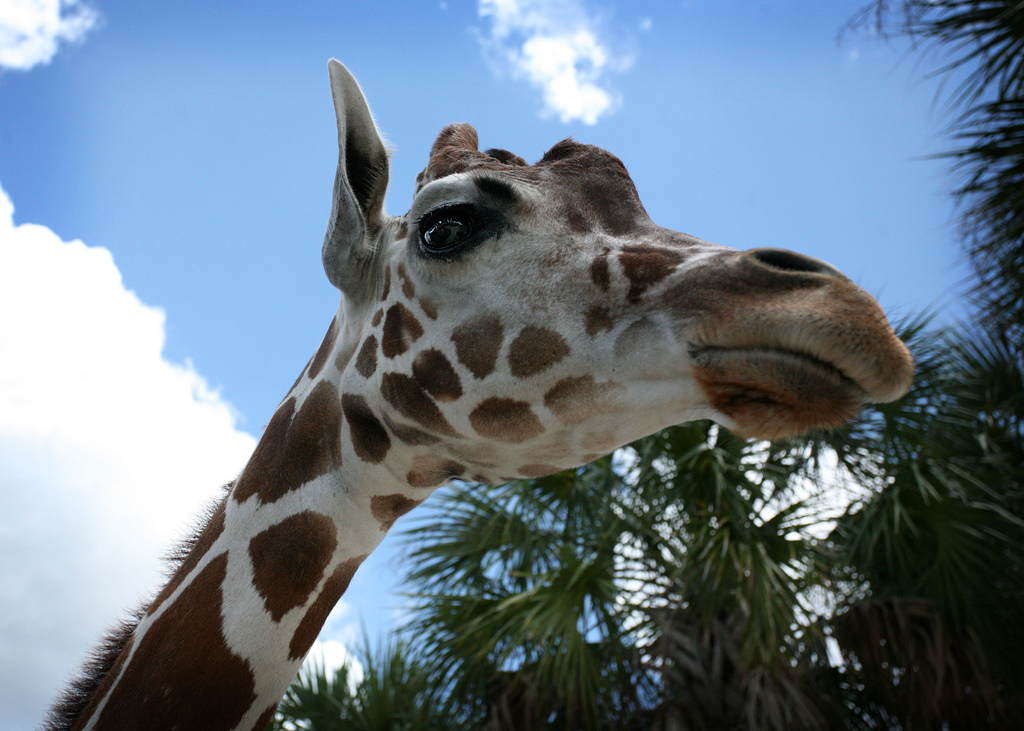giraffe: (96, 86, 932, 636)
